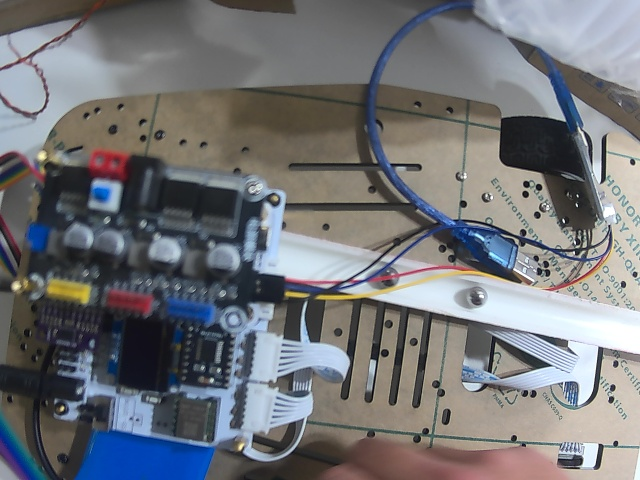steelball: (467, 286, 489, 308)
